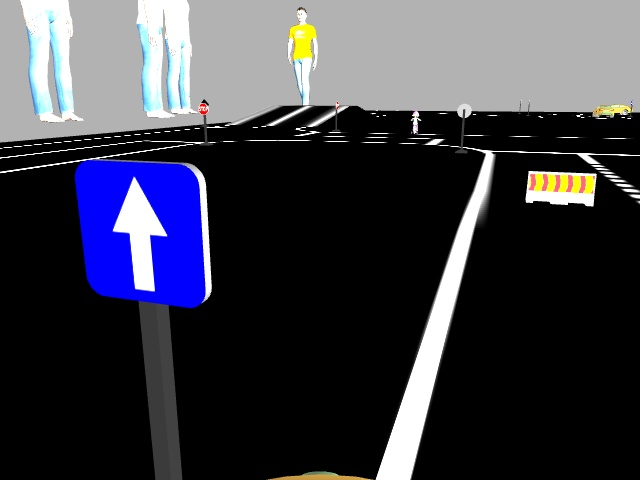ClosedRoadStand: (529, 168, 591, 205)
OneWay: (75, 162, 213, 303)
